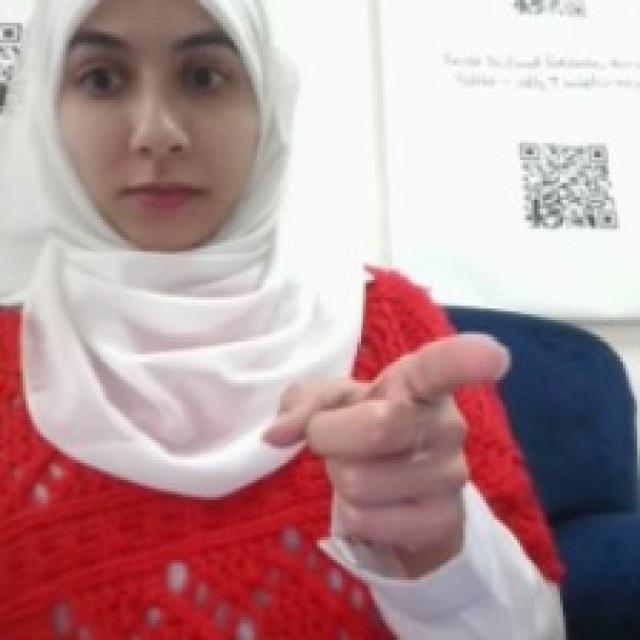you: (254, 324, 519, 557)
